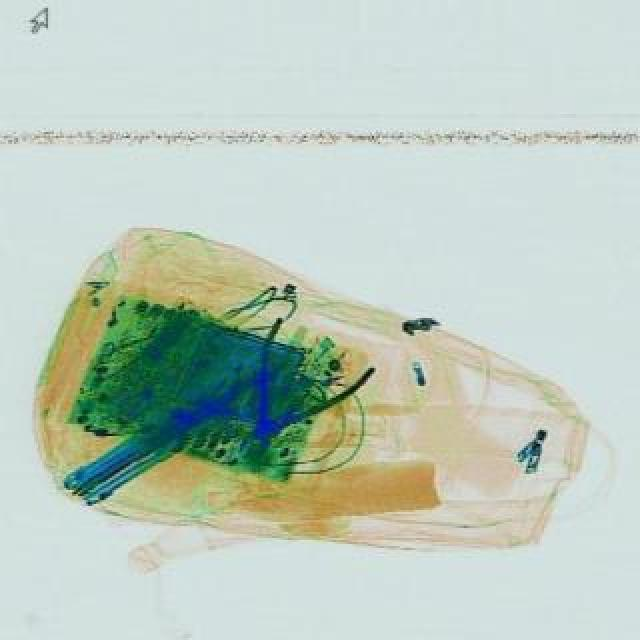wrench: (208, 316, 380, 484)
